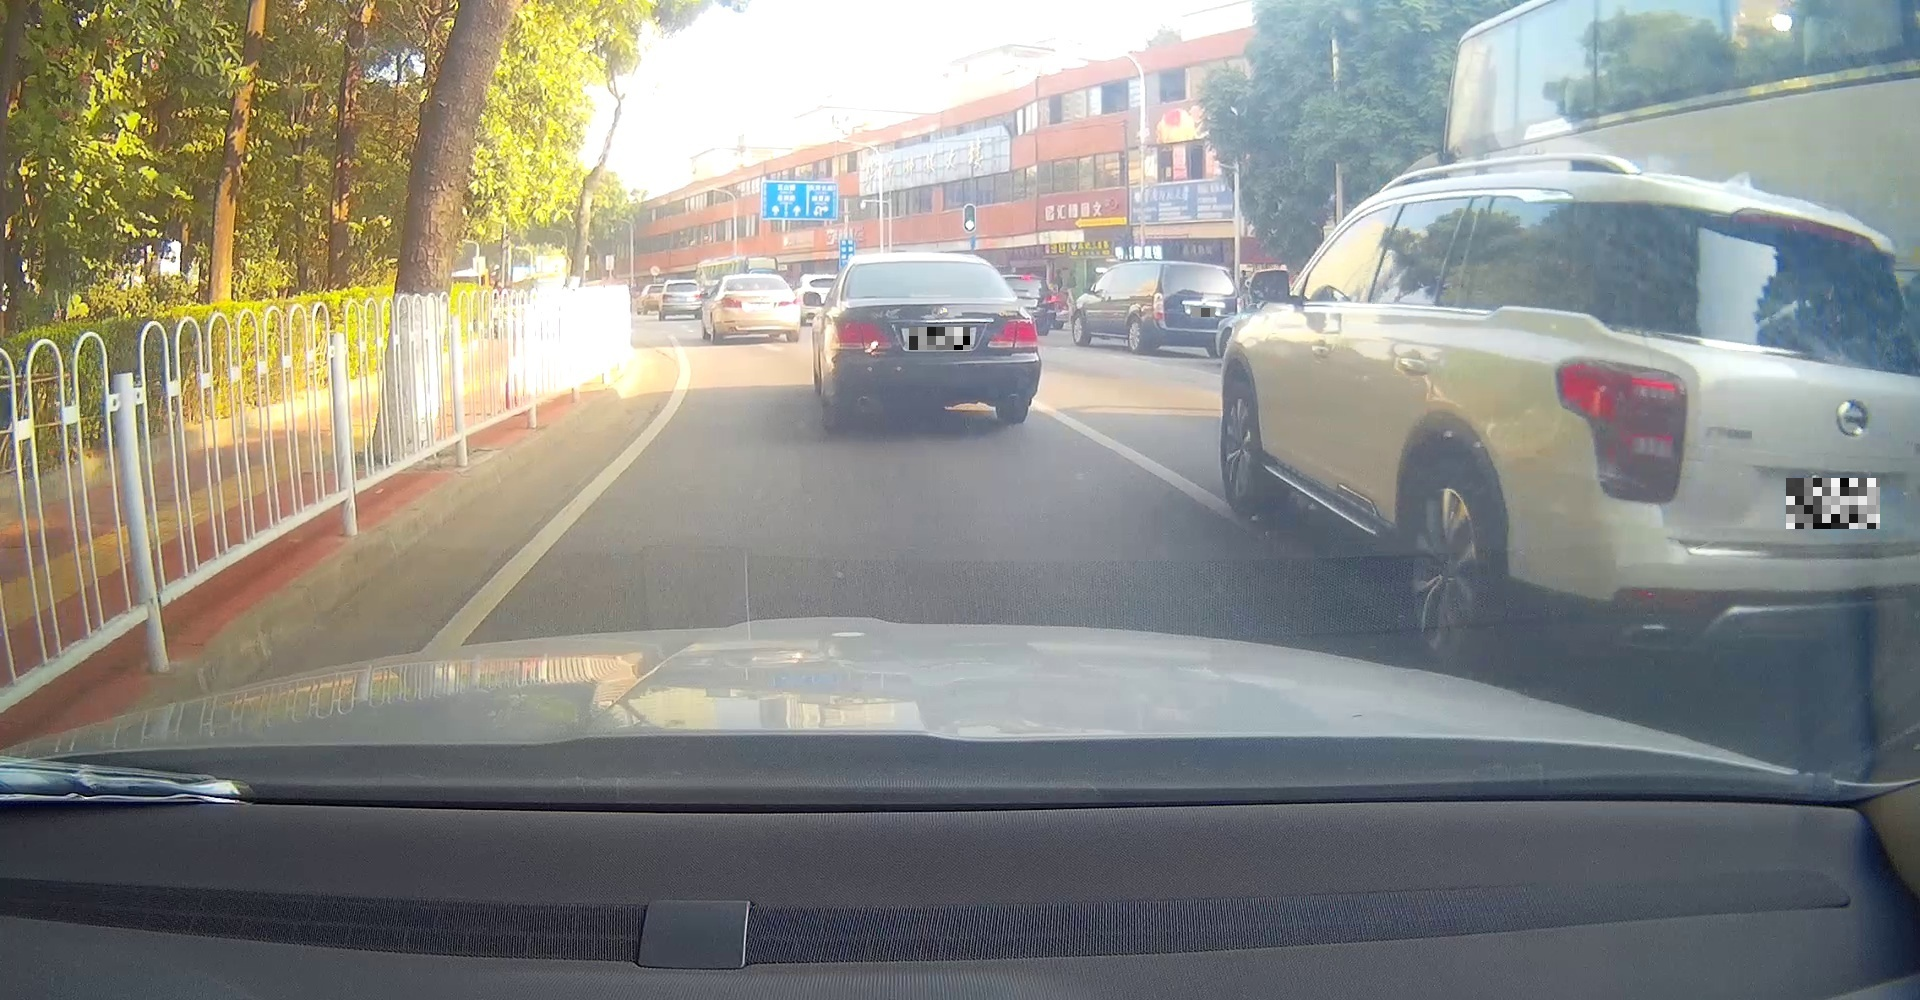L_light: (829, 319, 893, 350), (720, 298, 742, 308)
R_light: (987, 319, 1039, 349), (778, 298, 801, 308)
T_light: (910, 293, 951, 298), (750, 289, 764, 291)
day-no: (825, 253, 1043, 433), (716, 273, 801, 343)
plate_1: (909, 327, 970, 350)
plate_2: (1192, 308, 1215, 317)
plate_3: (1785, 478, 1879, 529)
